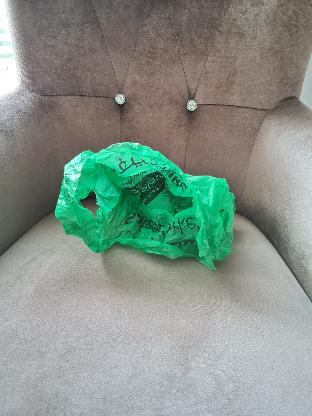Plastic Bag: (56, 142, 238, 270)
